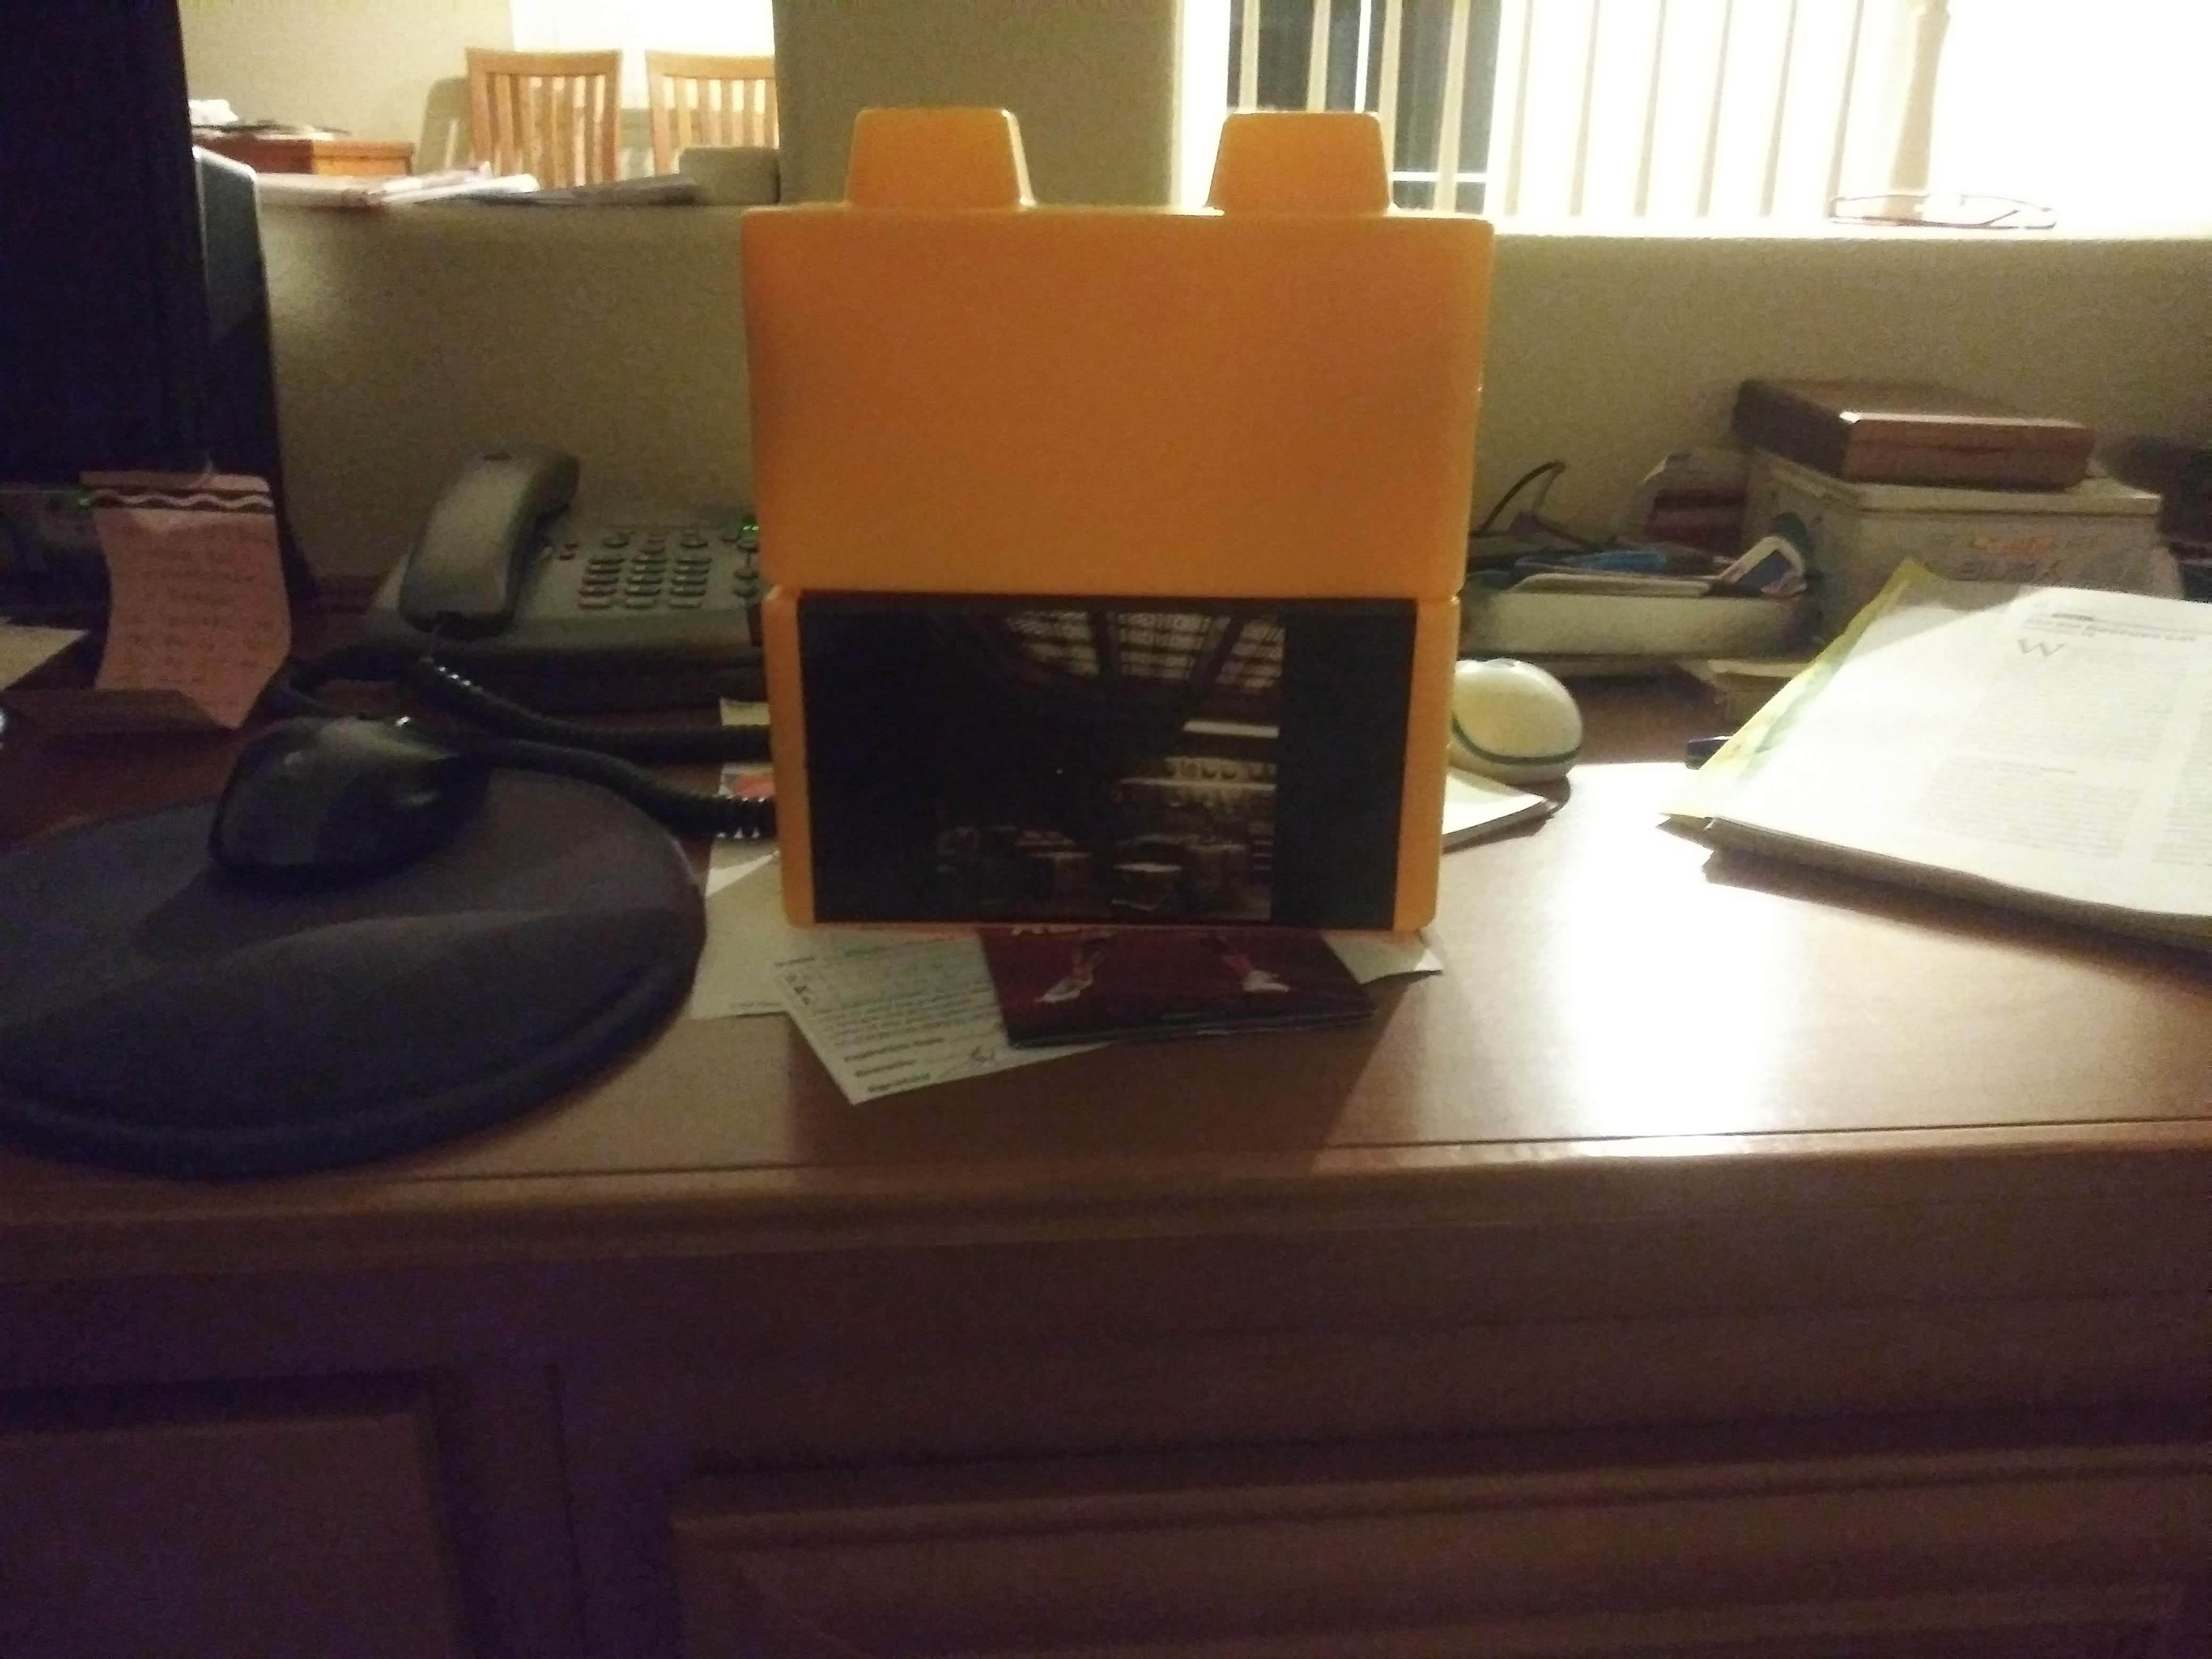skystone: (772, 594, 1442, 936)
stone: (745, 178, 1477, 584)
